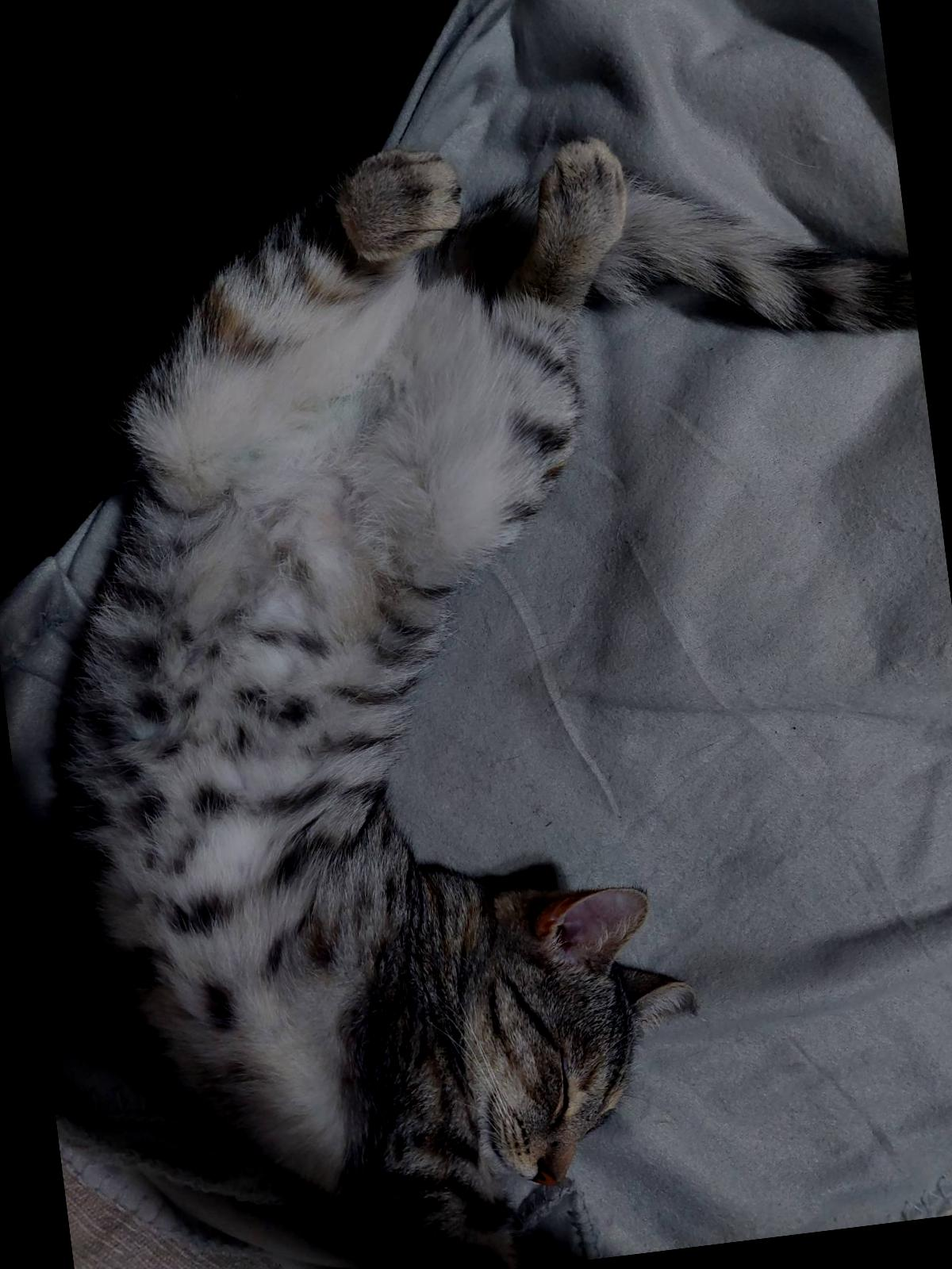macka: (0, 79, 952, 1269)
